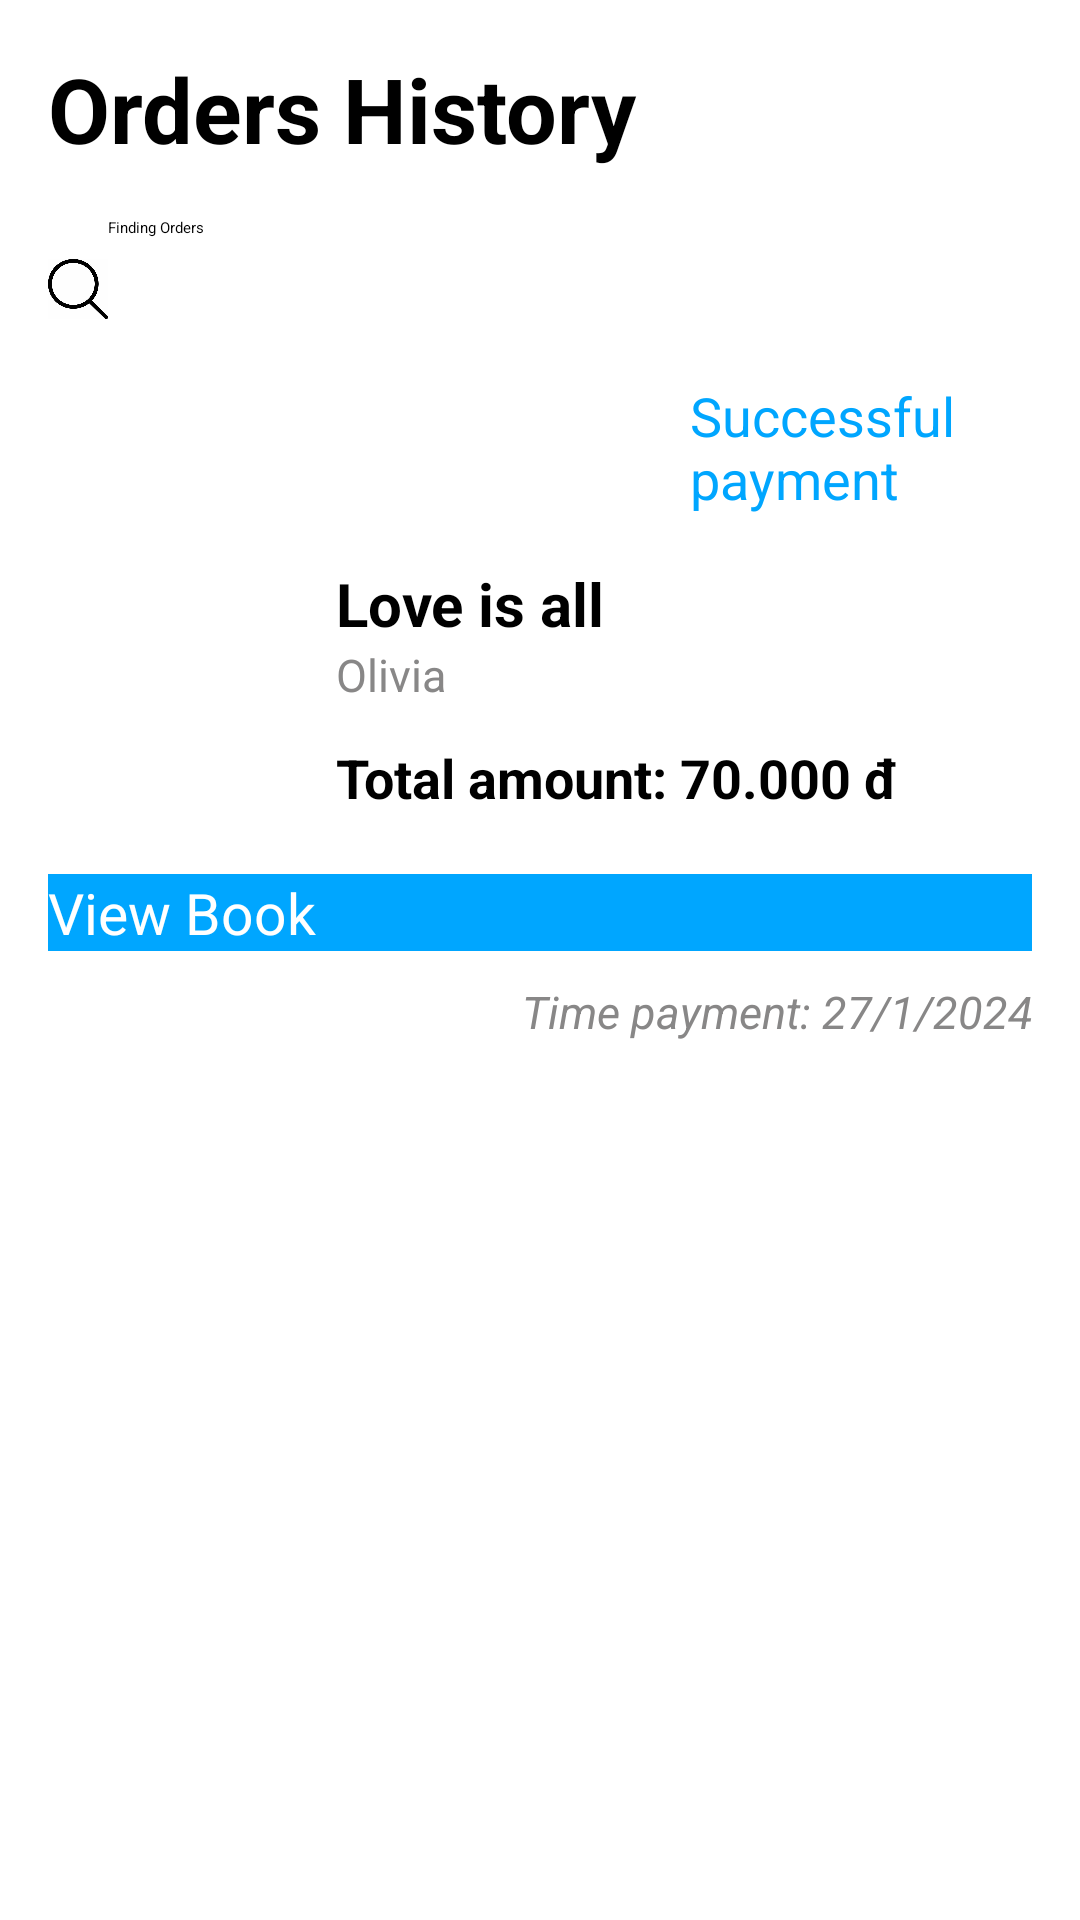

Screen size 1080x1920. Icon name, then its center in pixels as (x=x, y=y):
search: (x=78, y=289)
